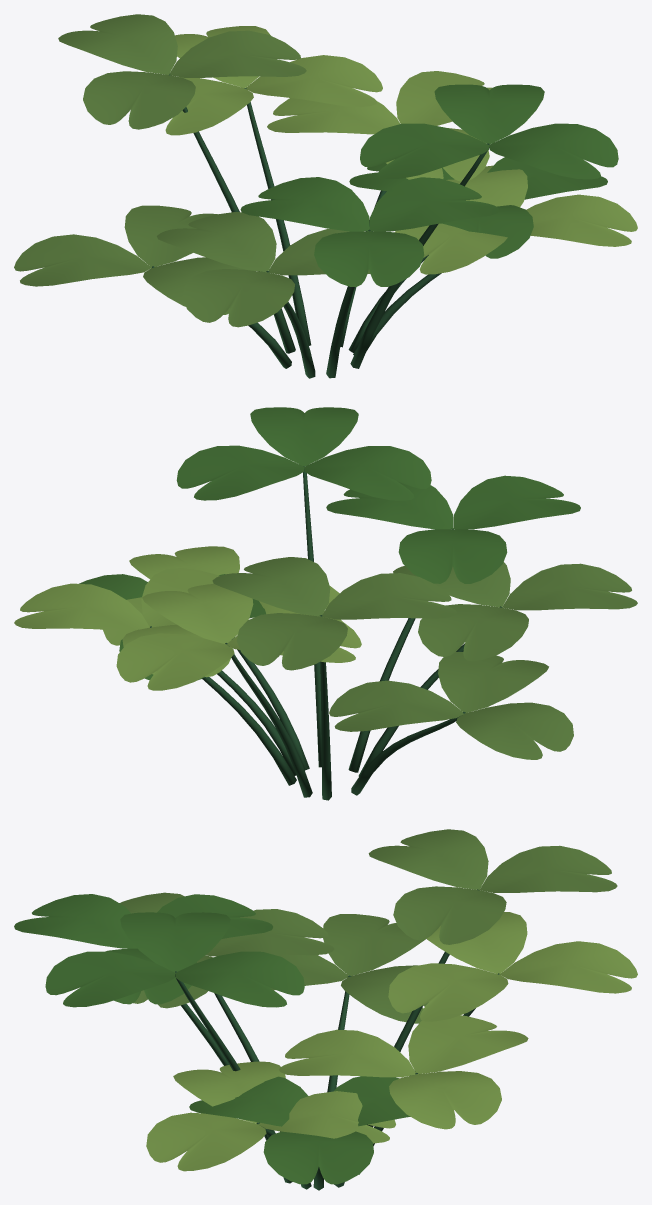
File: meadow_clover.hi.glb
3 renders of one model, top to bottom at view 1: azimuth 30°, elevation 25°; view 2: azimuth 150°, elevation 25°; view 3: azimuth 270°, elevation 25°, orthographic.
Visible parts, largest first — view 1: body; view 2: body; view 3: body.
Boxes of the visible parts, x1=… form: body: x1=14, y1=14, x2=637, y2=378; body: x1=14, y1=407, x2=637, y2=800; body: x1=14, y1=829, x2=637, y2=1190.
Size of the model in its own units: 0.3138 by 0.1444 by 0.3095.
